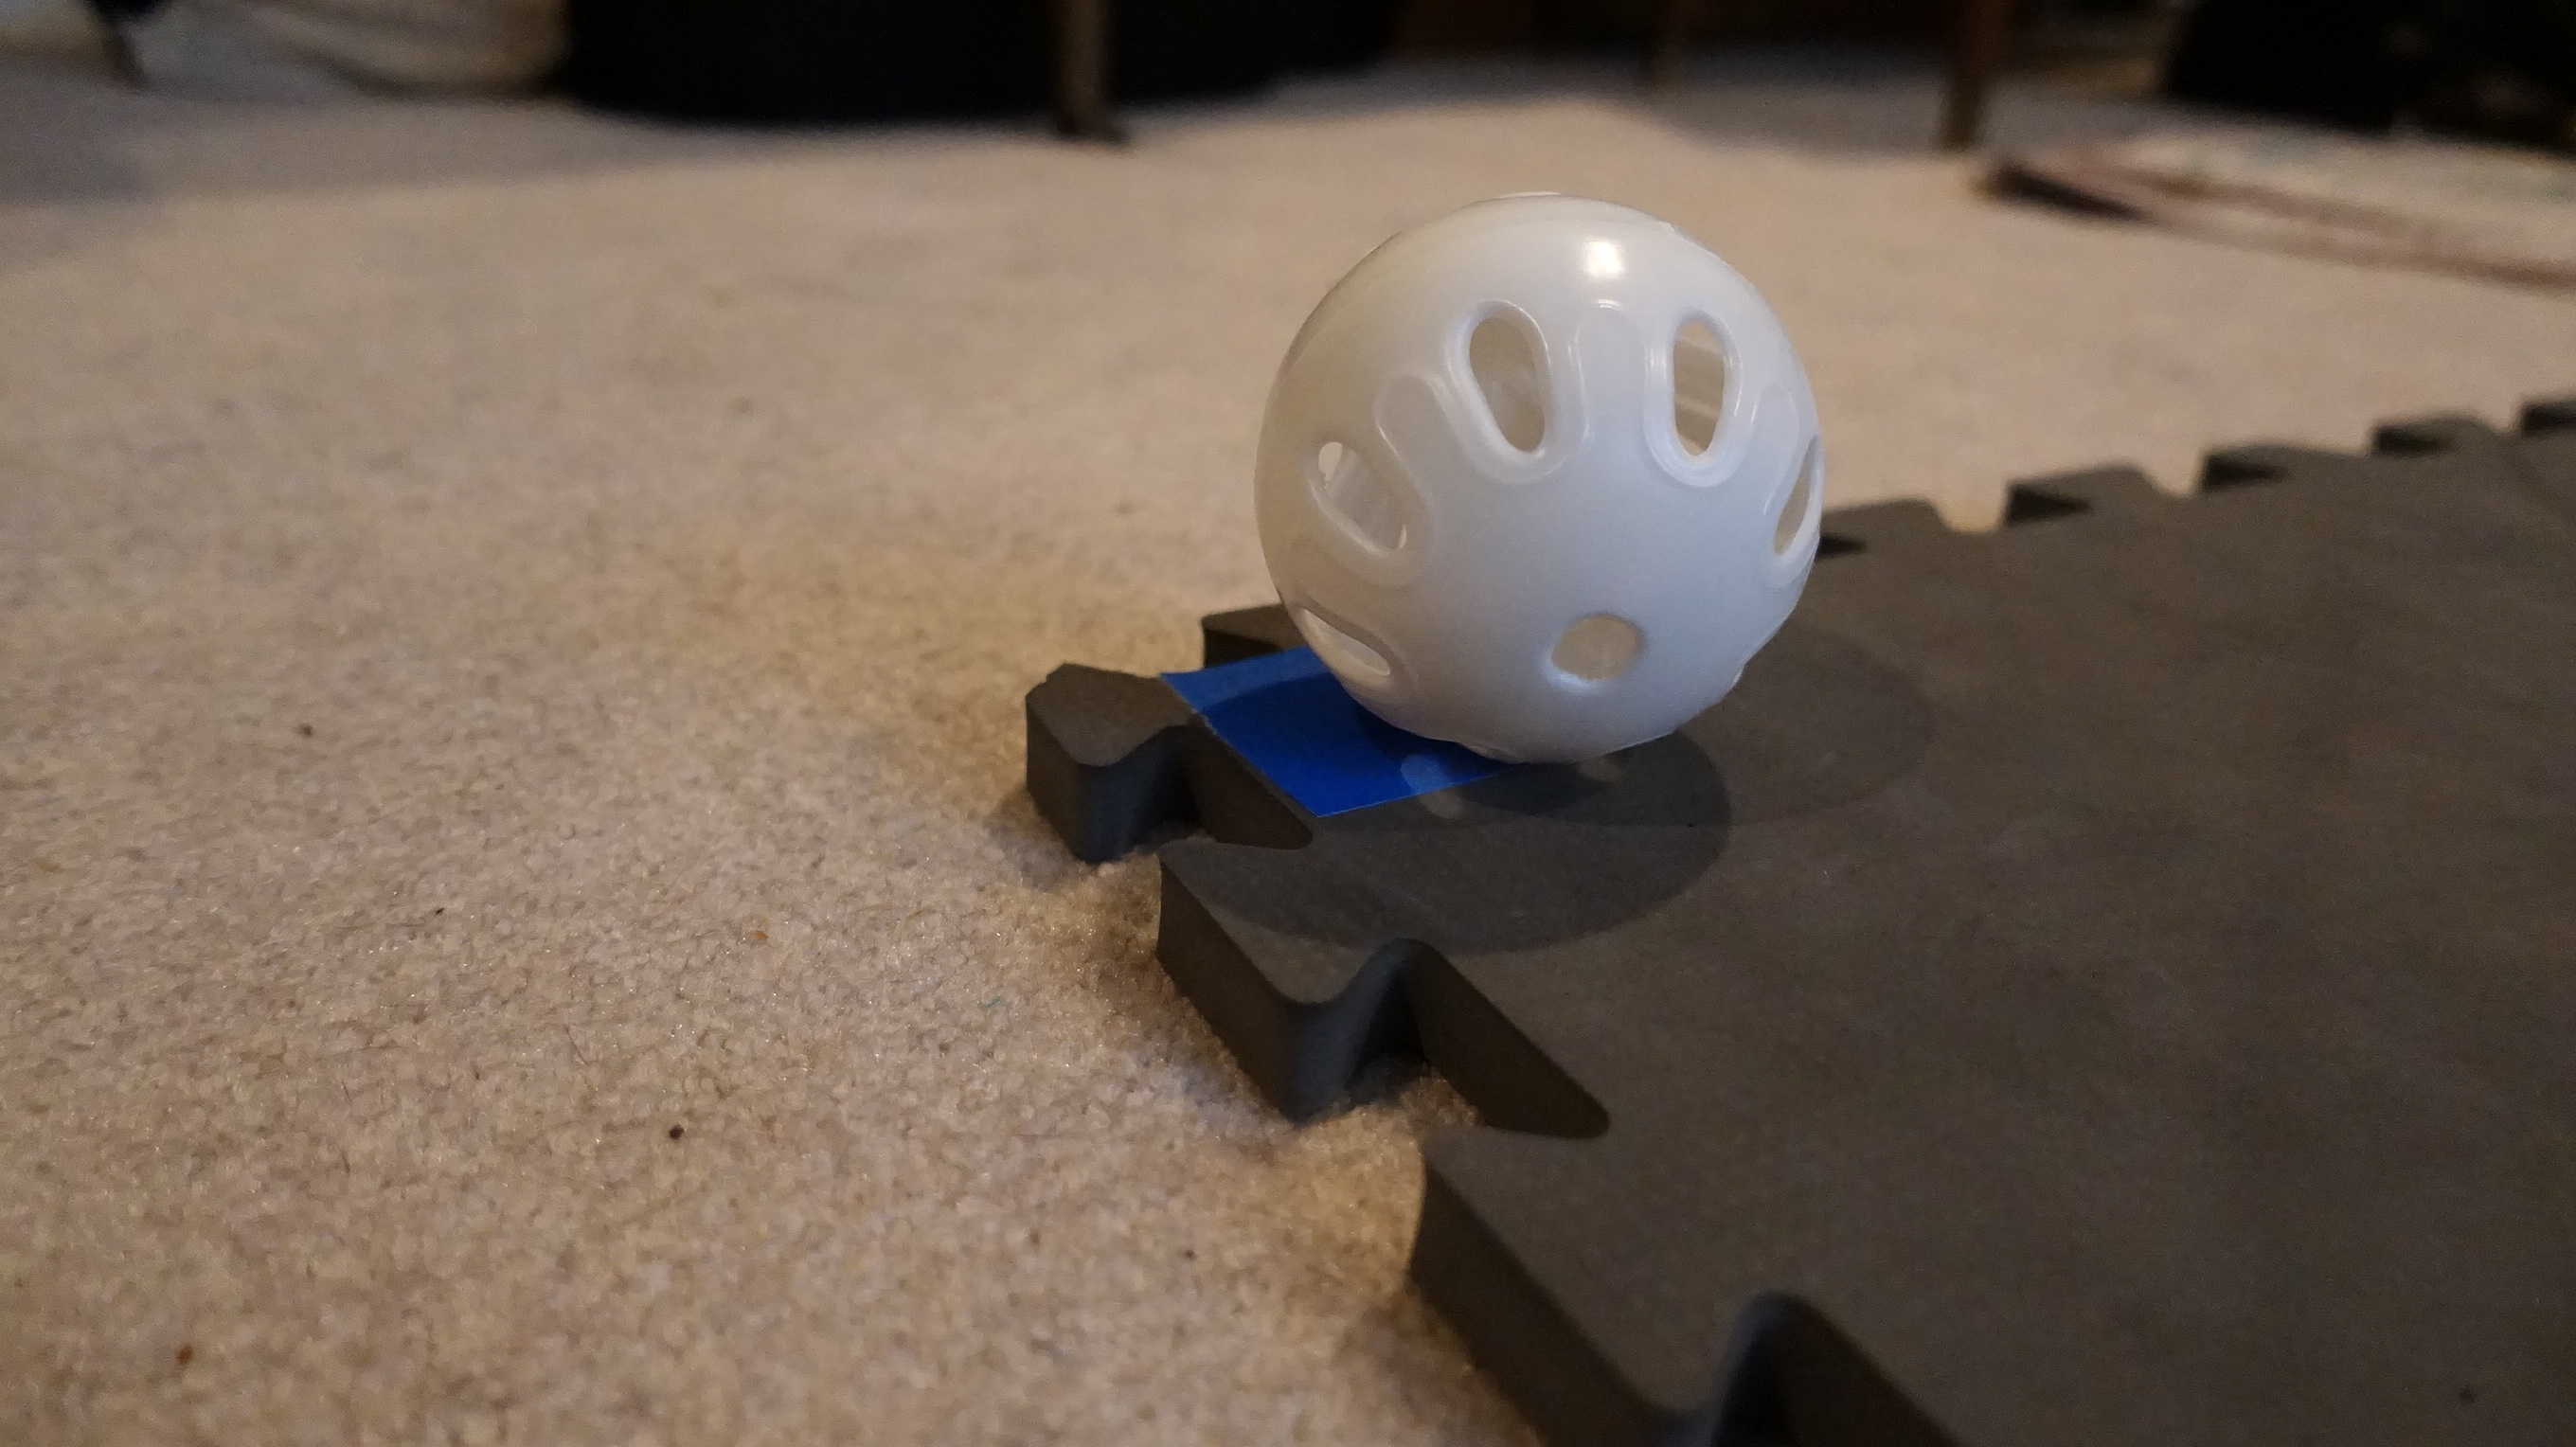silver: (1244, 179, 1835, 768)
